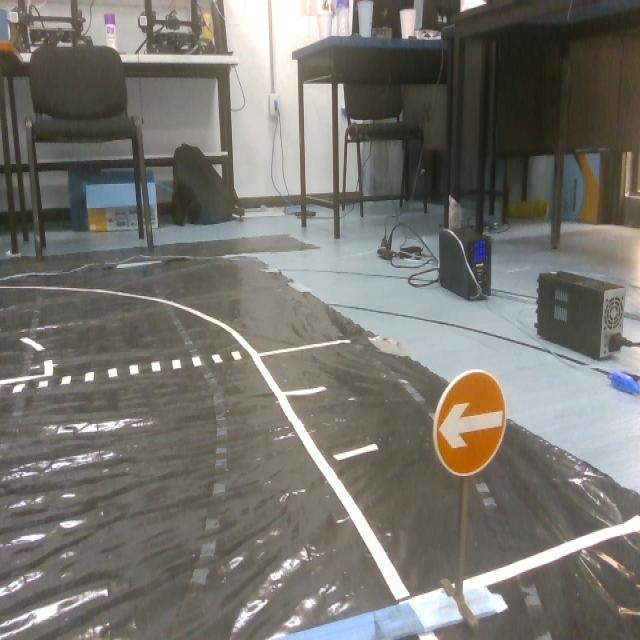forward: (436, 371, 511, 486)
